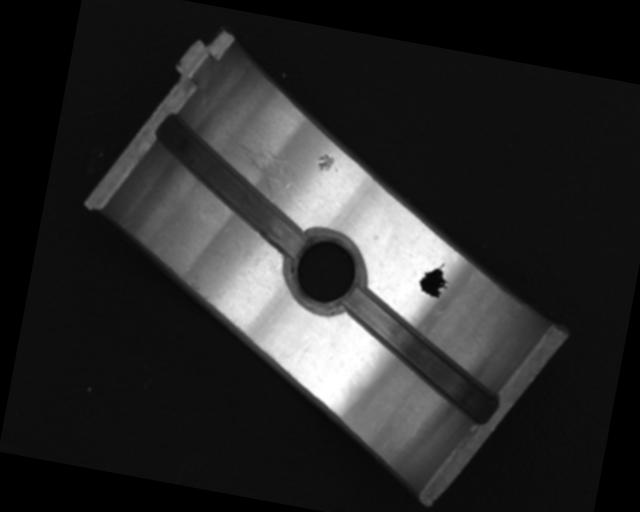blot: (415, 258, 452, 301)
bruise: (315, 152, 341, 174)
gap: (138, 112, 319, 259), (334, 286, 511, 425)
hole: (281, 228, 368, 315)
scratch: (210, 128, 297, 204)
